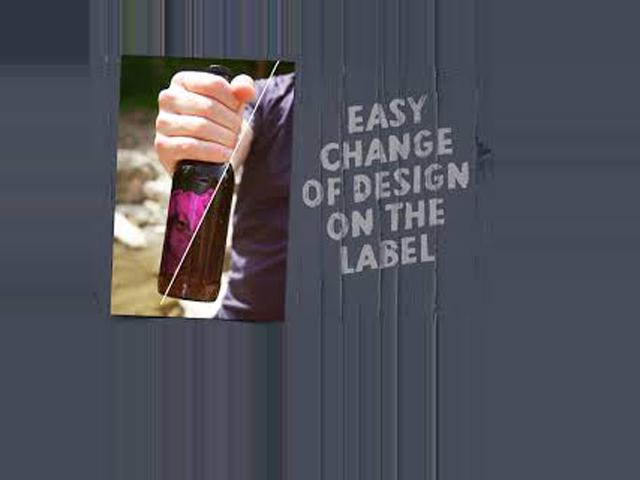beer: (160, 66, 235, 302)
